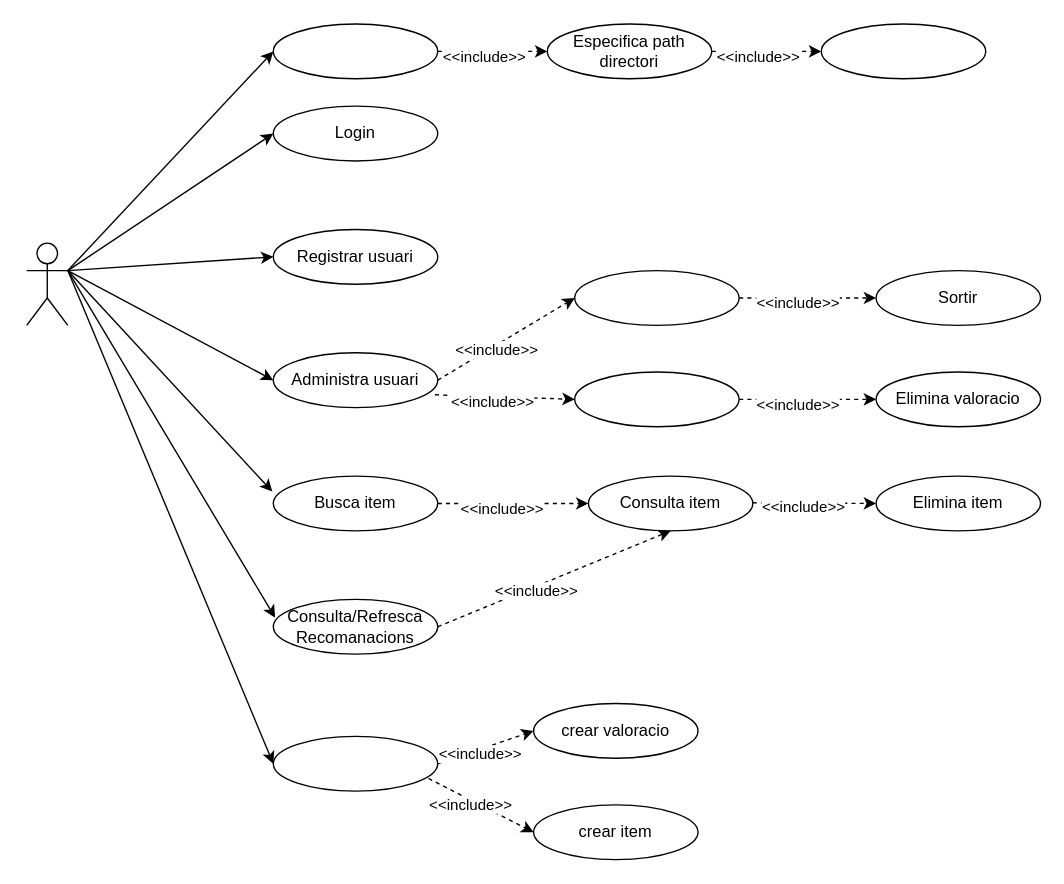
The diagram is 1064 pixels wide and 884 high, and some of its shapes have lost their labels. The box of each missing label's shape, as (x1, y1, x2, y2) in pixels:
Consulta valoracions: (573, 371, 739, 427)
Crear: (272, 735, 438, 791)
Elimina usuari: (573, 269, 739, 325)
Especifica Configuració: (820, 23, 986, 79)
Inicia: (272, 23, 438, 79)
Usuari: (25, 242, 68, 325)
